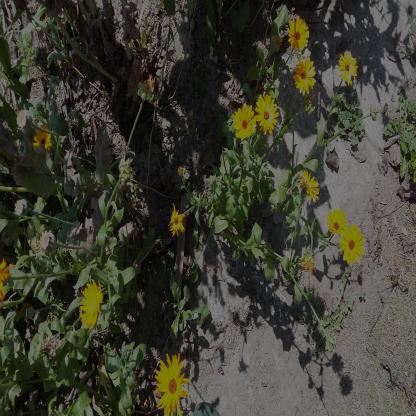marigold: (154, 352, 190, 416), (80, 278, 104, 327), (339, 223, 364, 266), (256, 92, 278, 136), (293, 56, 317, 96), (297, 166, 320, 202), (232, 104, 256, 138), (337, 49, 357, 86), (288, 16, 308, 51), (32, 126, 53, 155), (327, 208, 347, 236)
